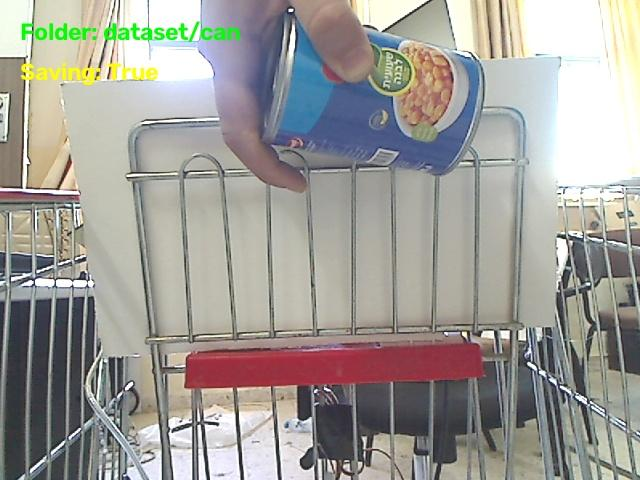can: (263, 13, 483, 174)
